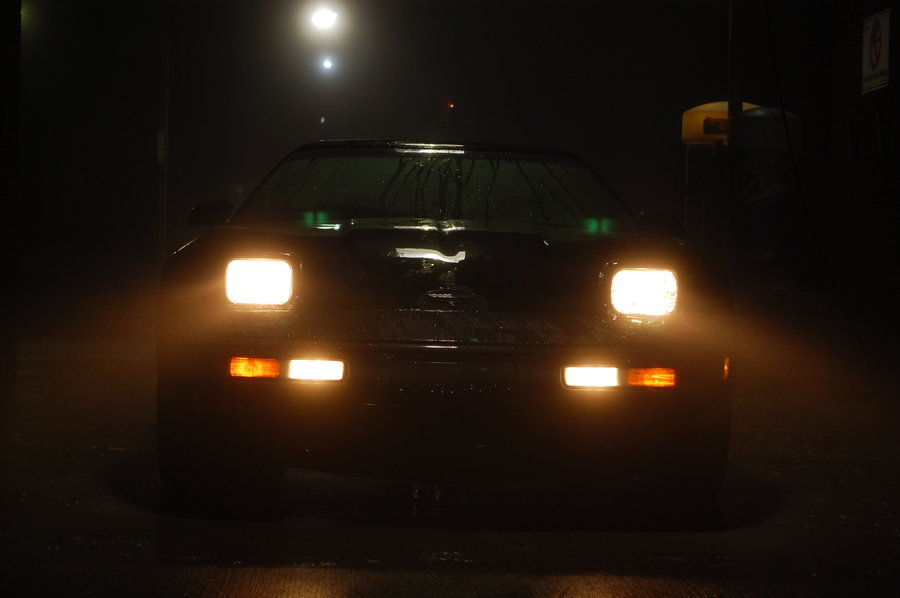car: (132, 128, 745, 491)
